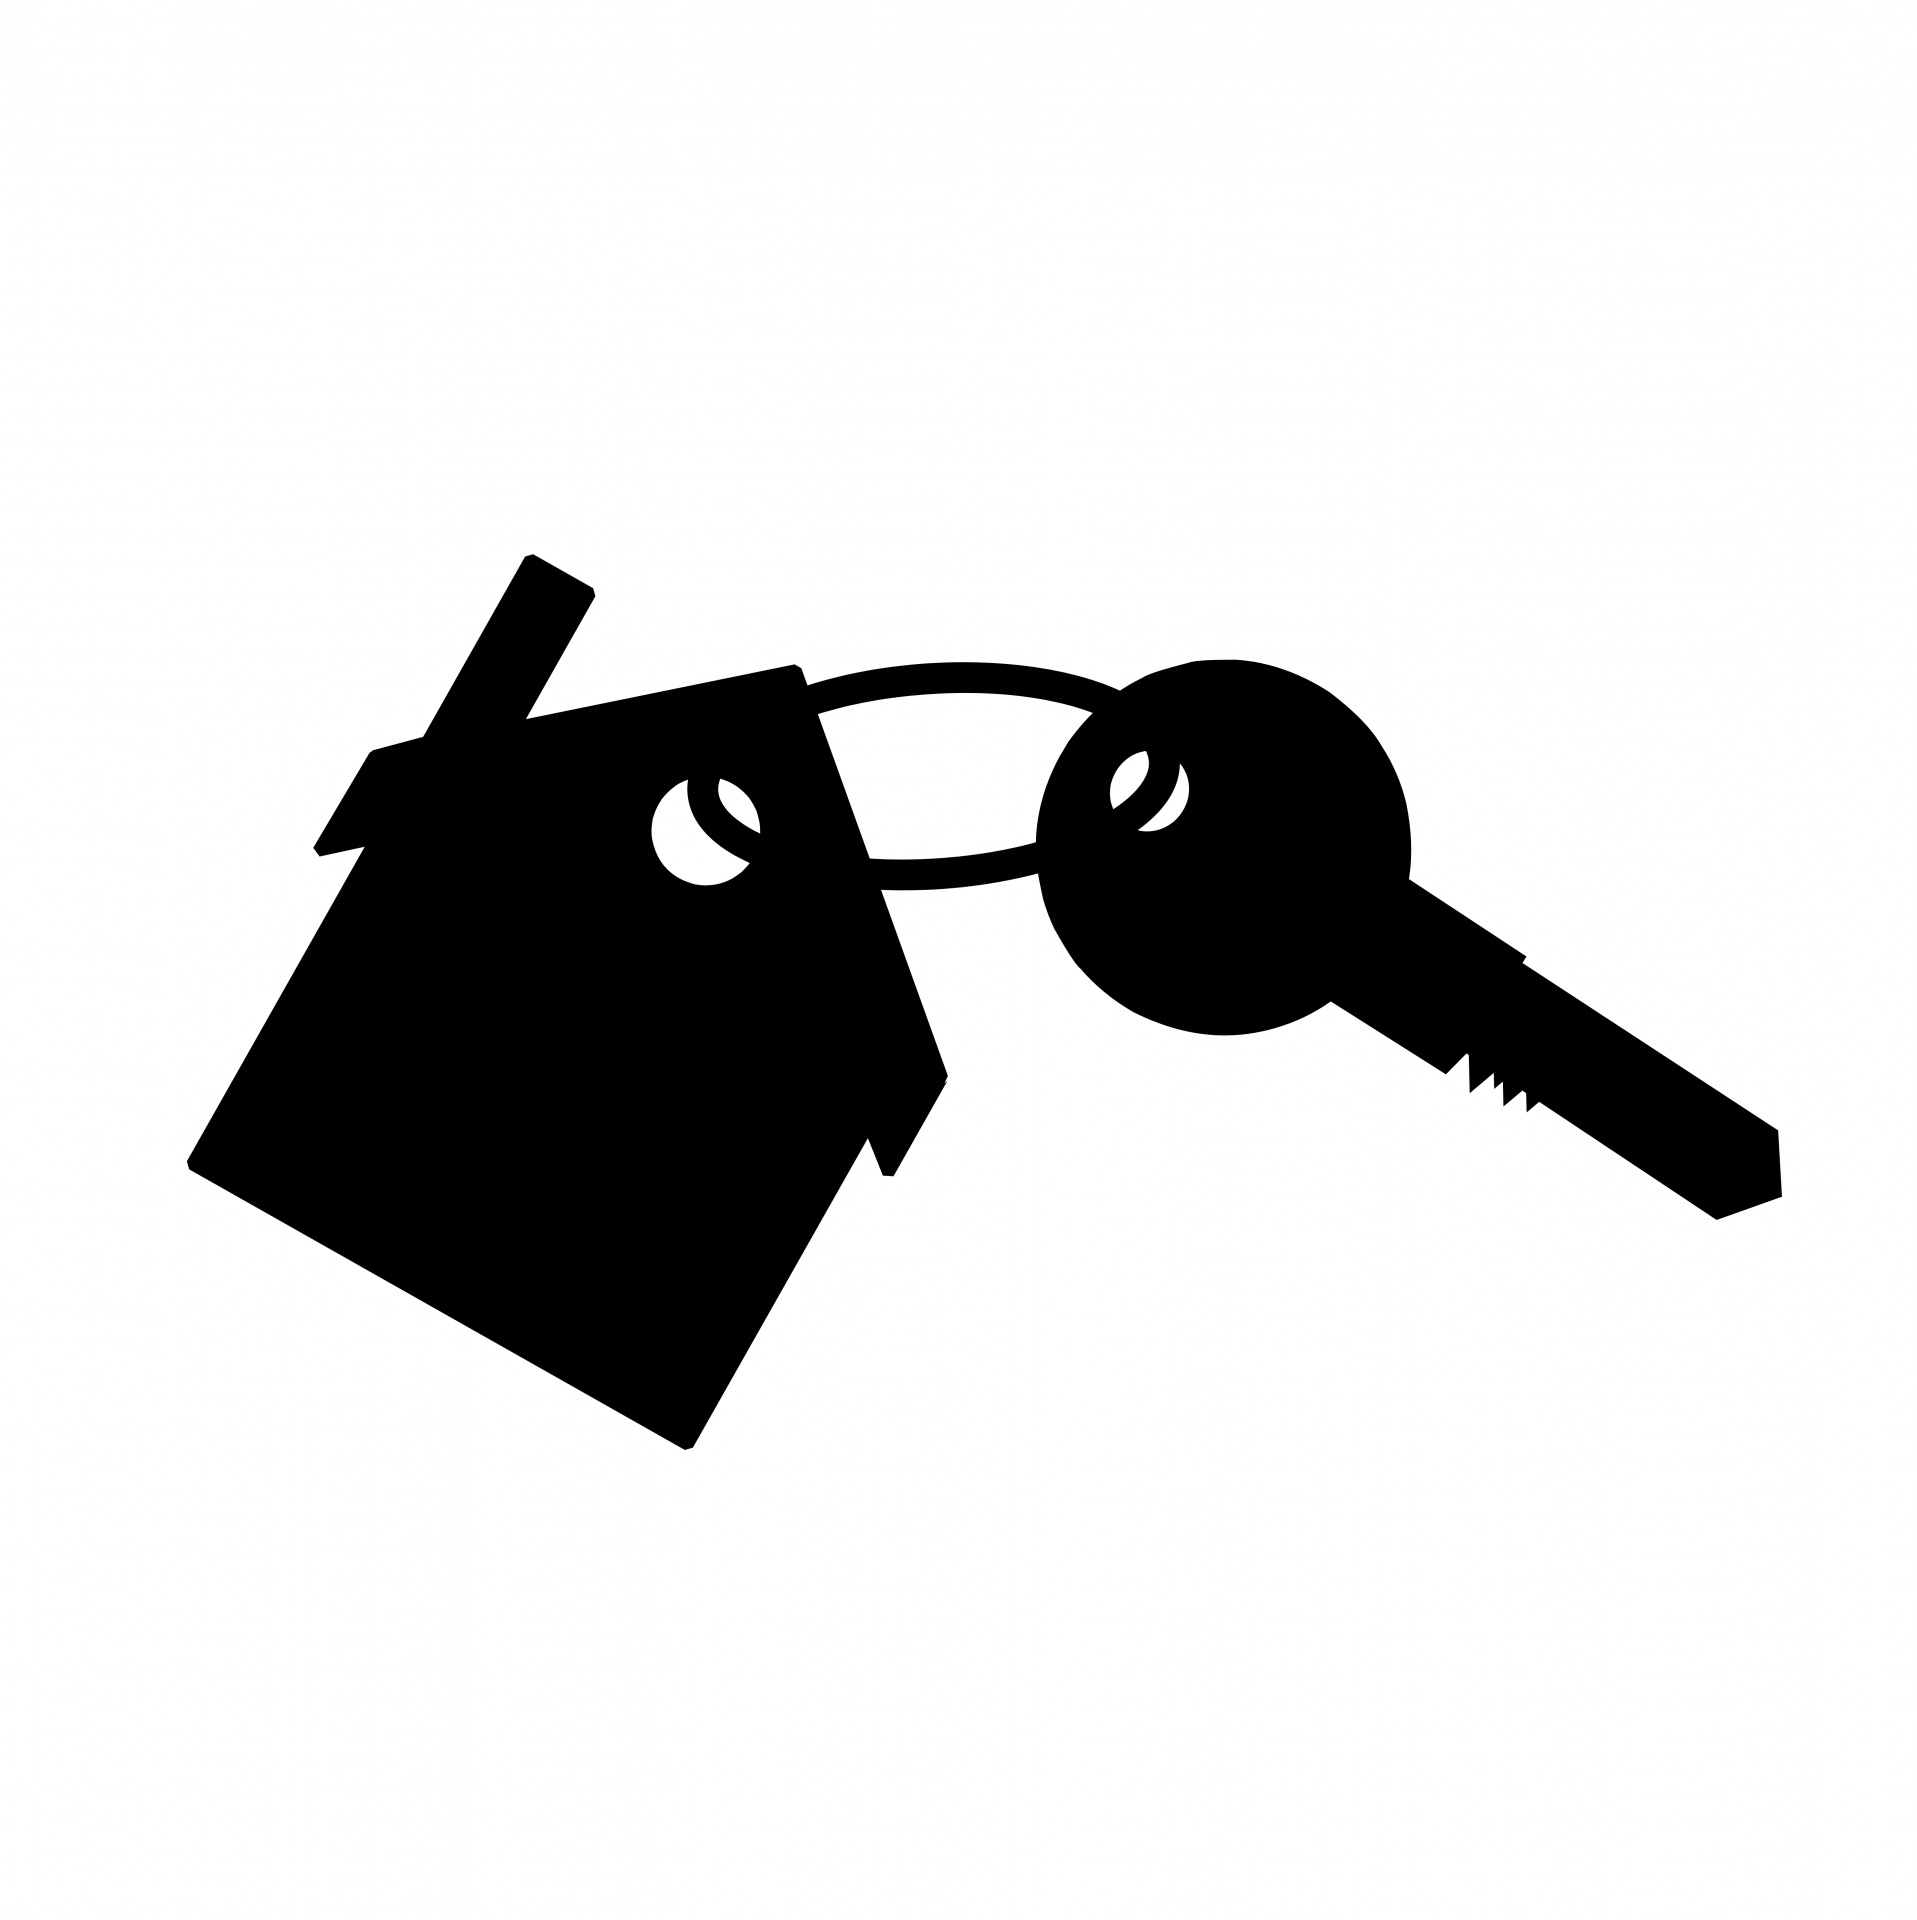key: (1043, 656, 1850, 1230)
